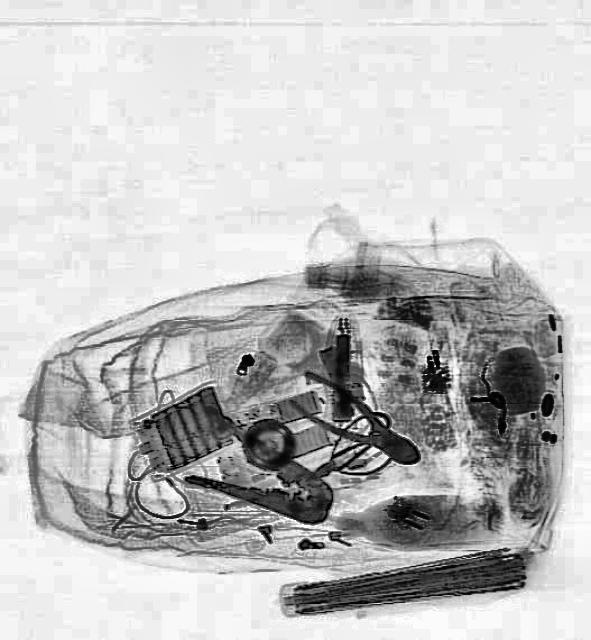Pliers: (181, 411, 347, 543), (284, 364, 432, 478)
Scissors: (289, 402, 409, 504)
